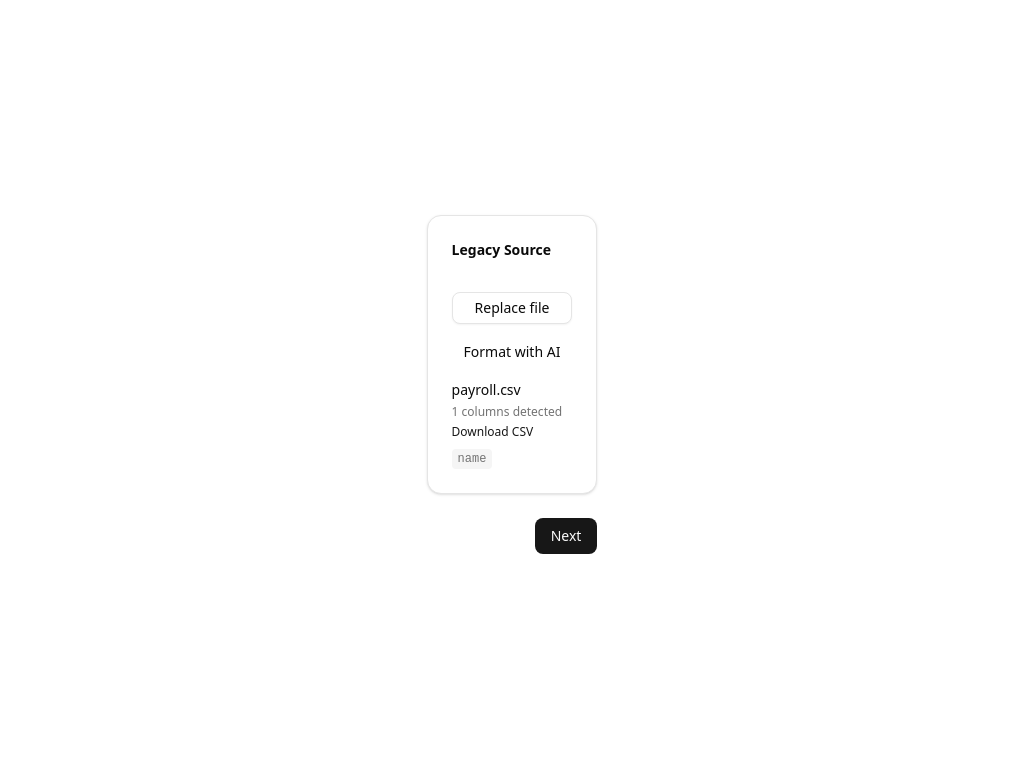
UploadLegacySource › formatter opens with provider and notes pre-filled from persisted legacy source
Click the button "Format with AI" at (512, 352), box [452,336,572,368]
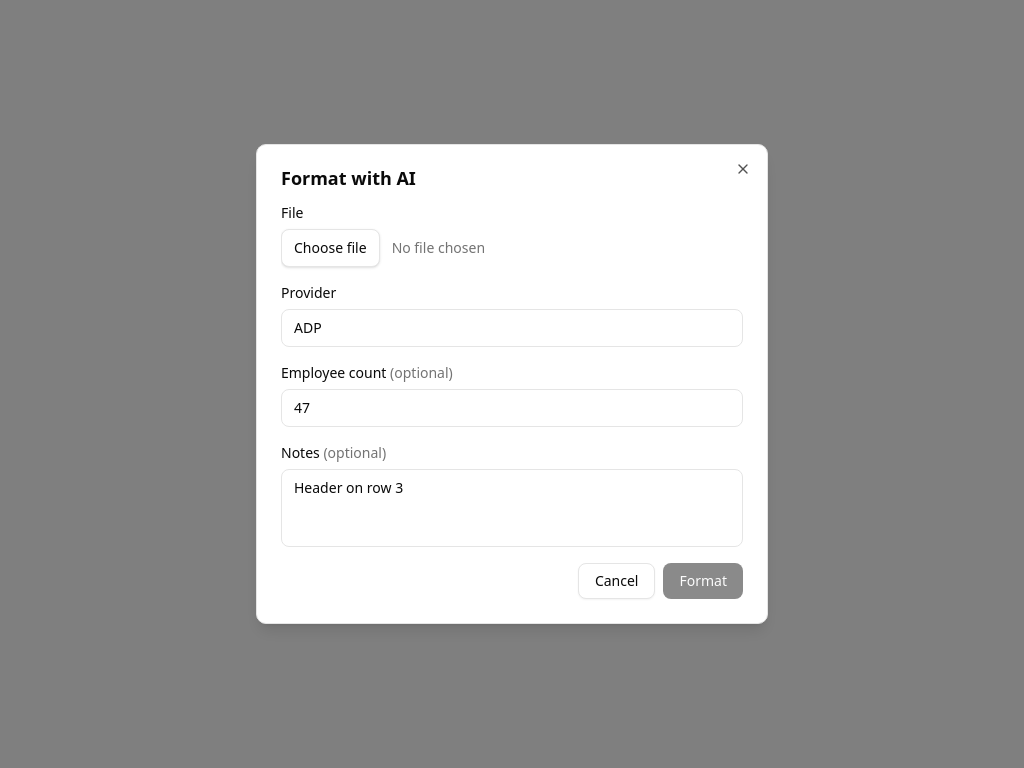
Now the button "Format" is shown, box [664,563,743,599]
Now the field labelled "Provider" holds "ADP", box [281,309,743,347]
Now the number field labelled "Employee count (optional)" holds "47", box [281,389,743,427]
